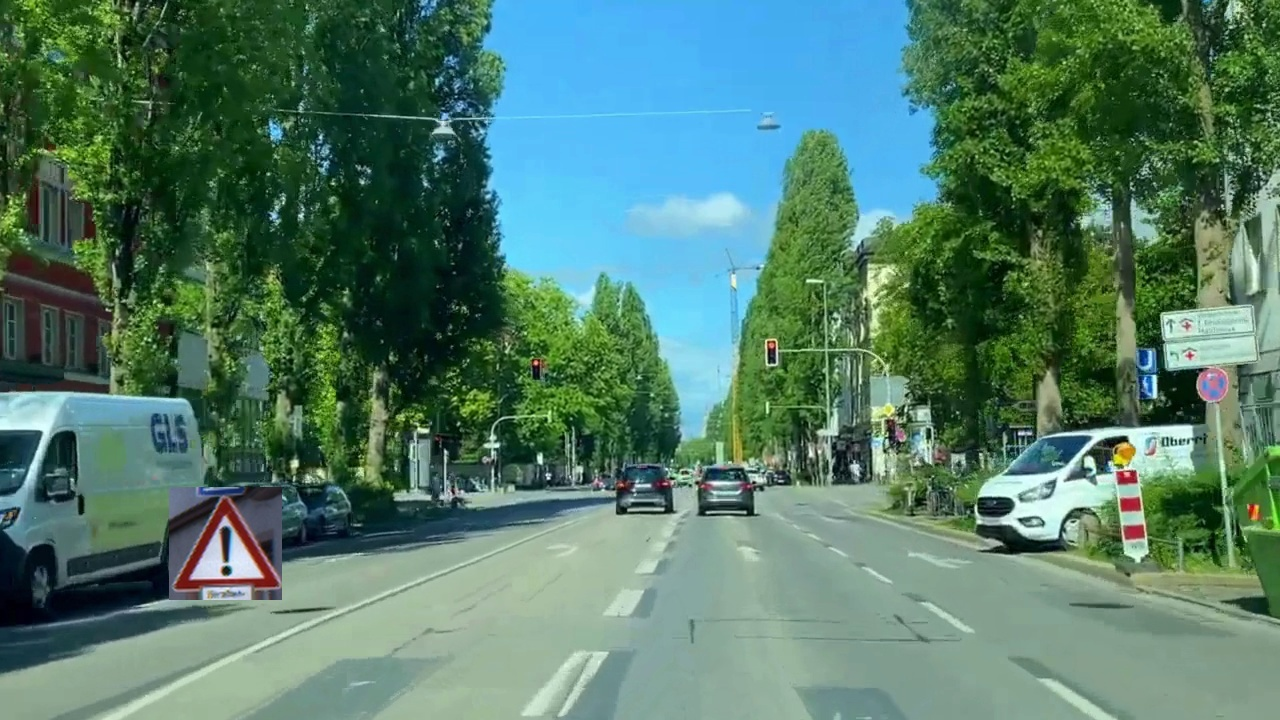Caution: (169, 487, 282, 600)
